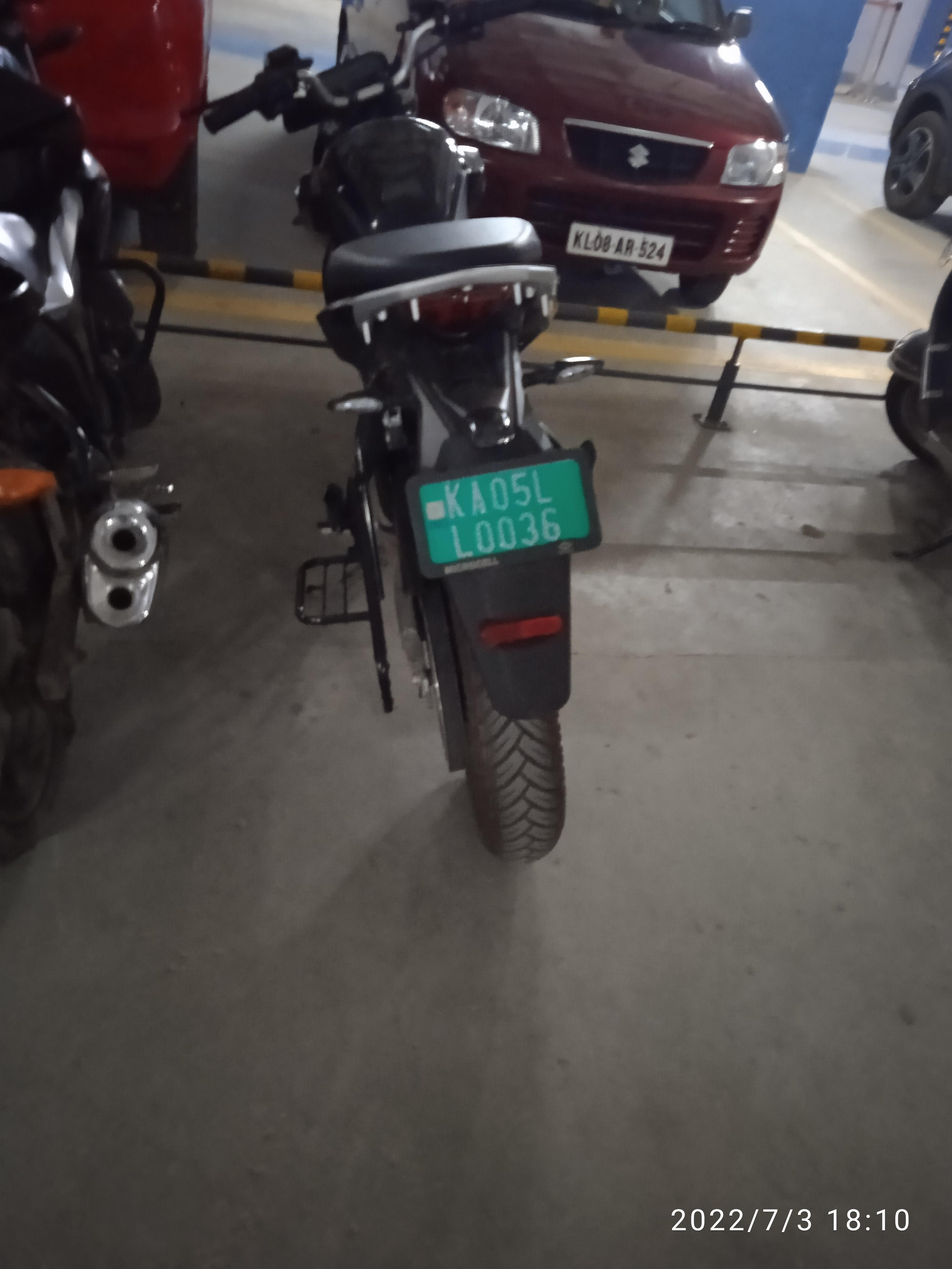green license plate: (412, 458, 597, 562)
